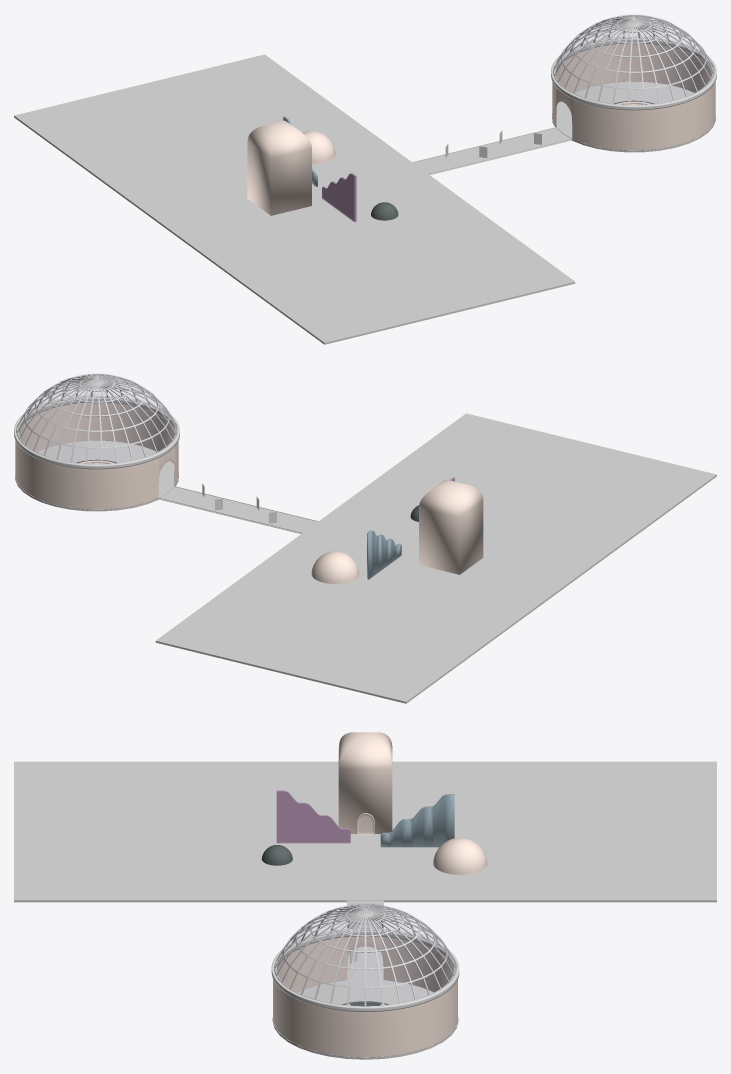
File: Prototype (+ couches)- Phase 1.fbx
3 views of the same model, one above another, from view 1: azimuth 30°, elevation 25°; view 2: azimuth 150°, elevation 25°; view 3: azimuth 270°, elevation 25° (orthographic). The views are drawn at different scales.
Visible parts, largest first — view 1: Plane.001, Walls.001, Main, Windows frame, Floor, Plane.002, Windows (glass).001, Wall decor.001, Stairs left.008, Wall decor.002, Sphere; view 2: Plane.001, Walls.001, Main, Windows frame, Floor, Plane.002, Windows (glass).001, Sphere, Wall decor.001, Stairs right.006, Wall decor.002; view 3: Plane.001, Walls.001, Windows frame, Main, Floor, Stairs left.008, Stairs right.006, Windows (glass).001, Sphere, Wall decor.001, Plane.002, Wall decor.002 (+1 smaller).
Part boxes in pixels (<box>): Plane.001: <box>14,54,575,344</box>; Walls.001: <box>552,43,715,150</box>; Main: <box>247,120,311,215</box>; Windows frame: <box>553,15,714,105</box>; Floor: <box>552,81,715,152</box>; Plane.002: <box>412,127,572,174</box>; Windows (glass).001: <box>554,14,714,79</box>; Wall decor.001: <box>551,36,716,110</box>; Stairs left.008: <box>322,173,356,222</box>; Wall decor.002: <box>554,38,713,105</box>; Sphere: <box>302,131,335,163</box>; Plane.001: <box>155,413,716,703</box>; Walls.001: <box>15,402,178,509</box>; Main: <box>419,479,483,574</box>; Windows frame: <box>16,374,177,464</box>; Floor: <box>15,440,178,511</box>; Plane.002: <box>159,486,318,533</box>; Windows (glass).001: <box>16,373,176,438</box>; Sphere: <box>311,551,359,583</box>; Wall decor.001: <box>14,395,179,469</box>; Stairs right.006: <box>367,530,401,579</box>; Wall decor.002: <box>17,397,176,464</box>; Plane.001: <box>14,761,716,902</box>; Walls.001: <box>273,936,457,1057</box>; Windows frame: <box>274,904,456,1006</box>; Main: <box>338,732,392,833</box>; Floor: <box>272,979,458,1059</box>; Stairs left.008: <box>276,790,350,843</box>; Stairs right.006: <box>380,794,454,847</box>; Windows (glass).001: <box>274,903,456,974</box>; Sphere: <box>433,837,487,874</box>; Wall decor.001: <box>271,928,459,1011</box>; Plane.002: <box>347,900,383,979</box>; Wall decor.002: <box>275,930,455,1005</box>.
Size of the model in its own units: 15059 by 2612 by 15102.
